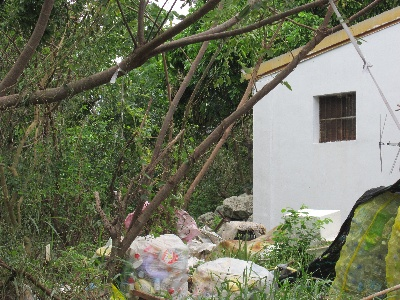plastic_bag: (122, 232, 191, 300), (192, 256, 279, 300)
